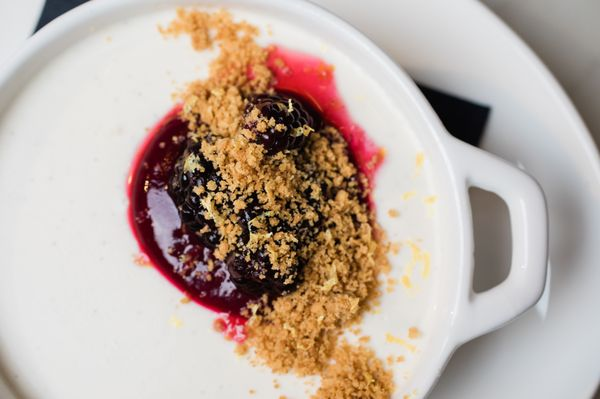sushi: (85, 4, 568, 392)
